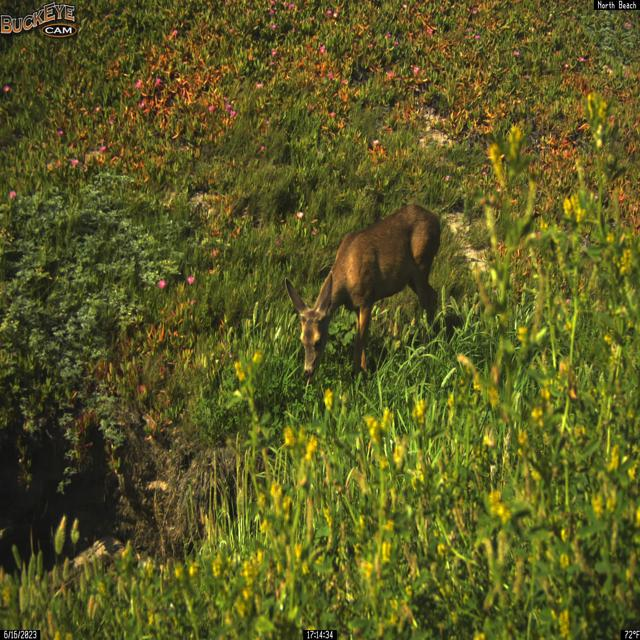deer: (284, 204, 442, 383)
